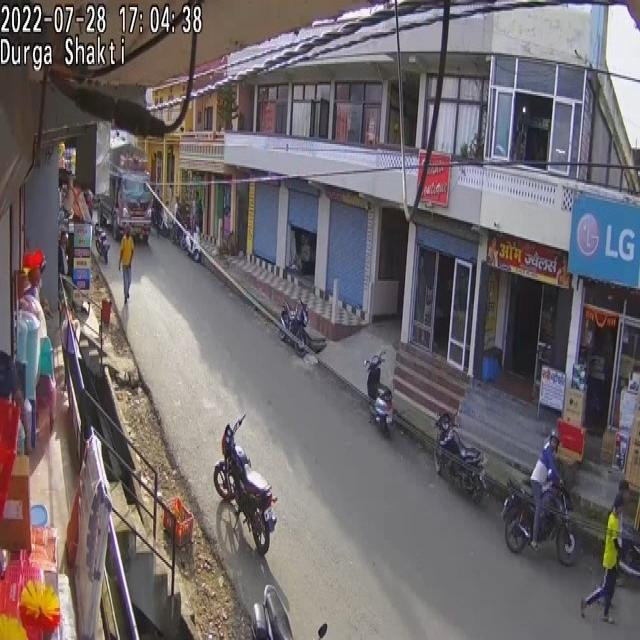non-fight: (581, 481, 626, 621), (528, 428, 562, 548), (118, 228, 134, 304)
